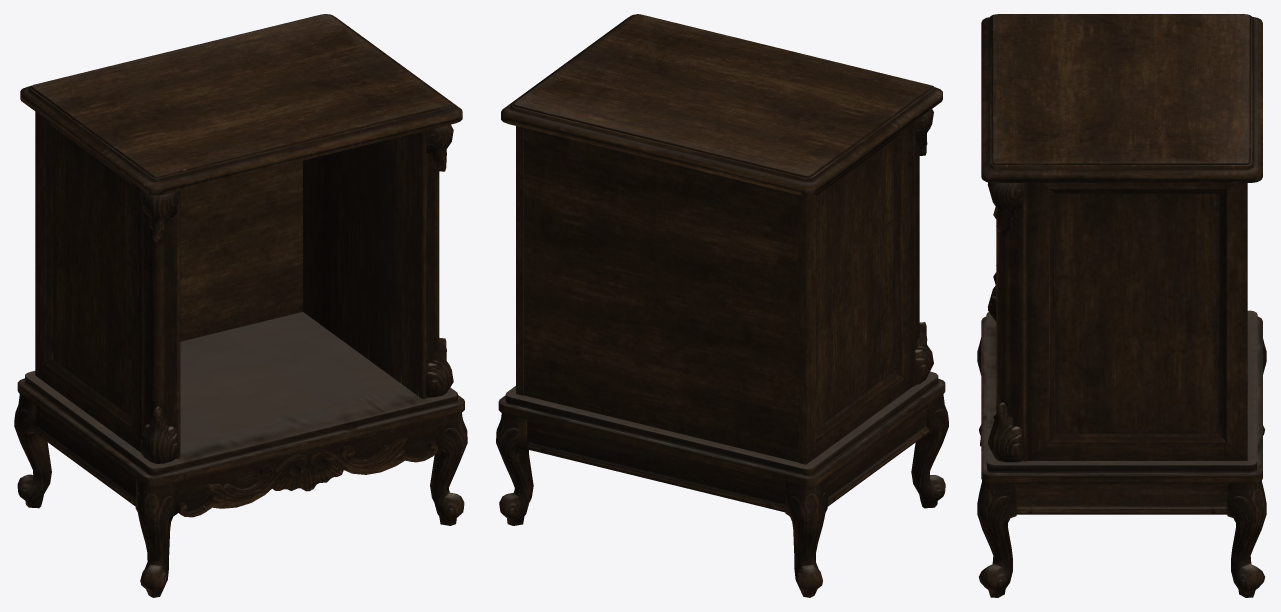
Rendered from ClassicNightstand_01.glb.
The picture shows the model from 3 angles, left to right: view 1: azimuth 30°, elevation 25°; view 2: azimuth 150°, elevation 25°; view 3: azimuth 270°, elevation 25°; orthographic projection. The views are drawn at different scales.
Parts seen in each view (by area): view 1: ClassicNightstand_01; view 2: ClassicNightstand_01; view 3: ClassicNightstand_01.
Part boxes in pixels (x1,y1,x2,y2): ClassicNightstand_01: (14,14,467,597); ClassicNightstand_01: (496,14,948,597); ClassicNightstand_01: (977,14,1266,597).
Bounding box in the file's own units: 0.5678 × 0.7 × 0.4242.
1 material, 1 textured.
